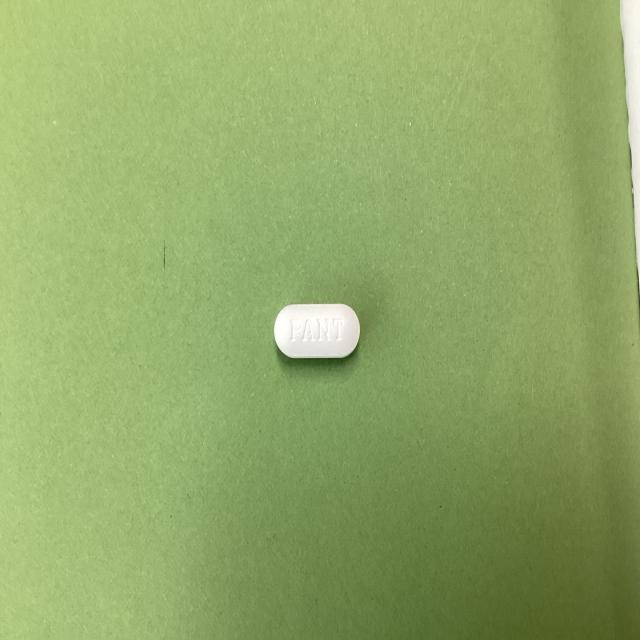-: (269, 296, 367, 369)
